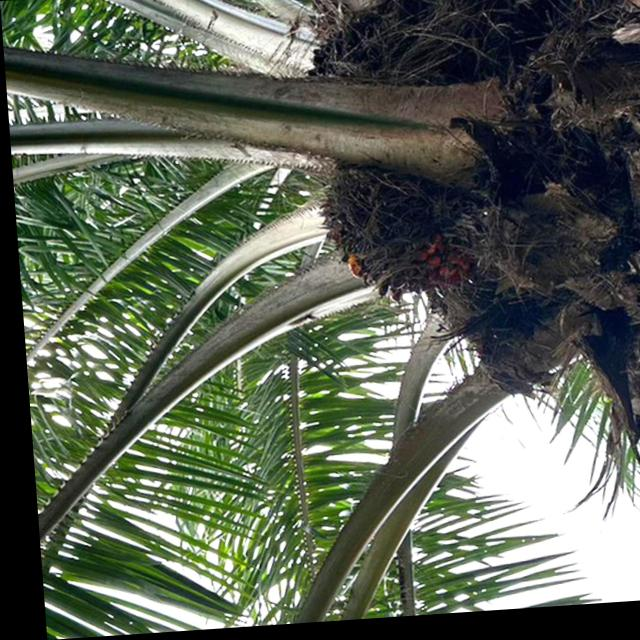ripe: (304, 151, 465, 319)
